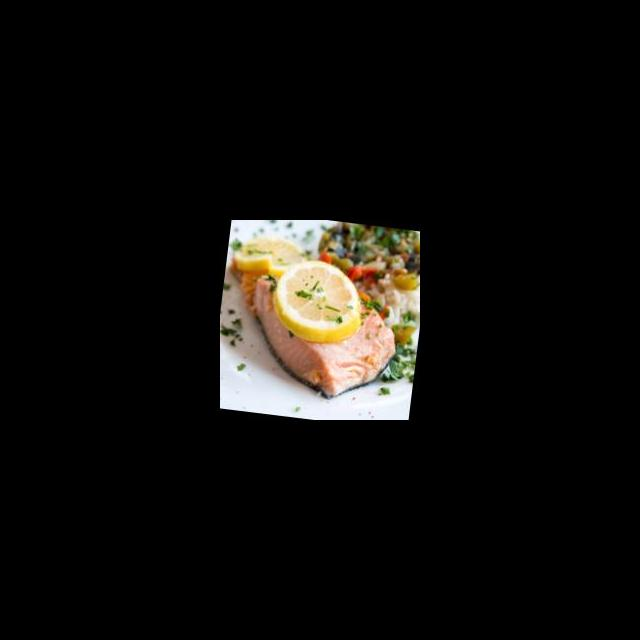ca hoi: (242, 251, 404, 407)
